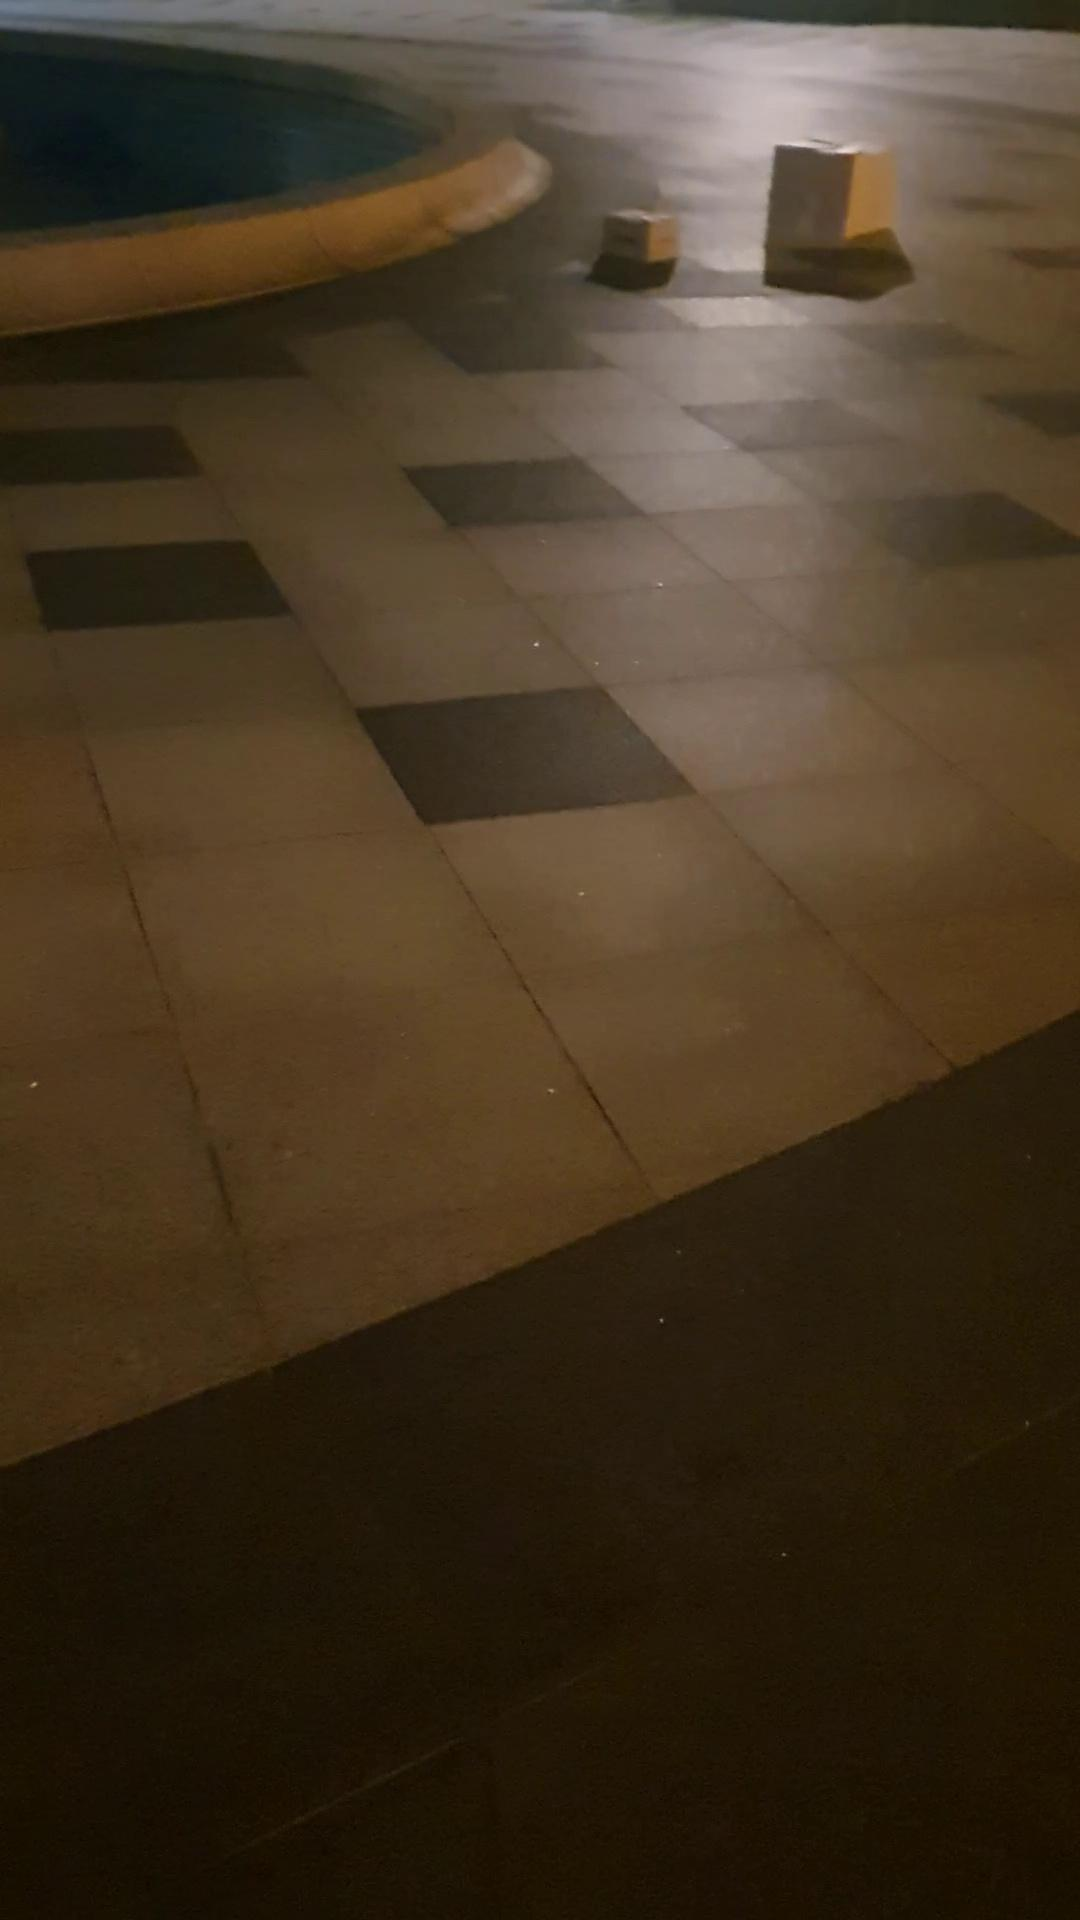Box: (764, 128, 909, 272), (603, 198, 692, 270)
